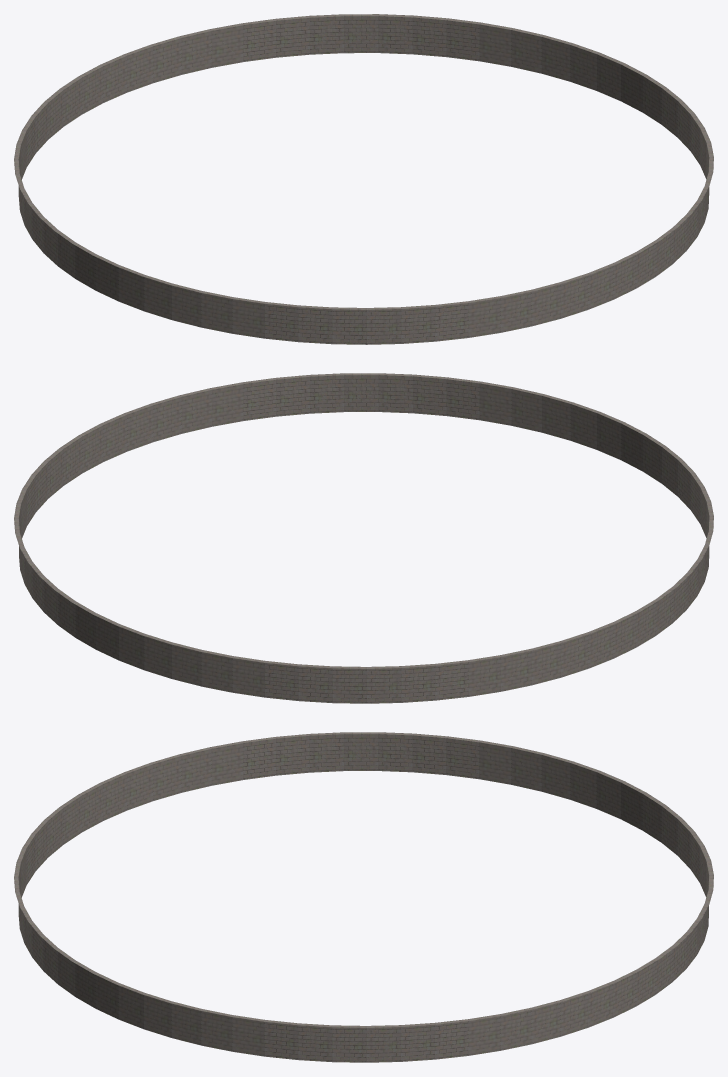
The model's file is ArenaBorder.fbx.
3 renders of one model, top to bottom at view 1: azimuth 30°, elevation 25°; view 2: azimuth 150°, elevation 25°; view 3: azimuth 270°, elevation 25°, orthographic.
Parts seen in each view (by area): view 1: ArenaBorder.001; view 2: ArenaBorder.001; view 3: ArenaBorder.001.
Part boxes in pixels (left/top/right/bottom): ArenaBorder.001: left=14, top=14, right=713, bottom=344; ArenaBorder.001: left=14, top=373, right=713, bottom=703; ArenaBorder.001: left=14, top=732, right=713, bottom=1062.
Bounding box in the file's own units: 10101 × 587 × 10102.
